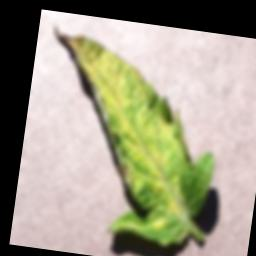Leaf_Mold: (26, 26, 229, 249)
